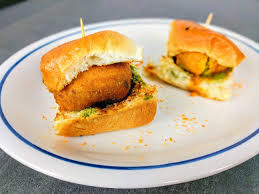vada pav: (40, 30, 151, 126), (158, 19, 226, 102)
